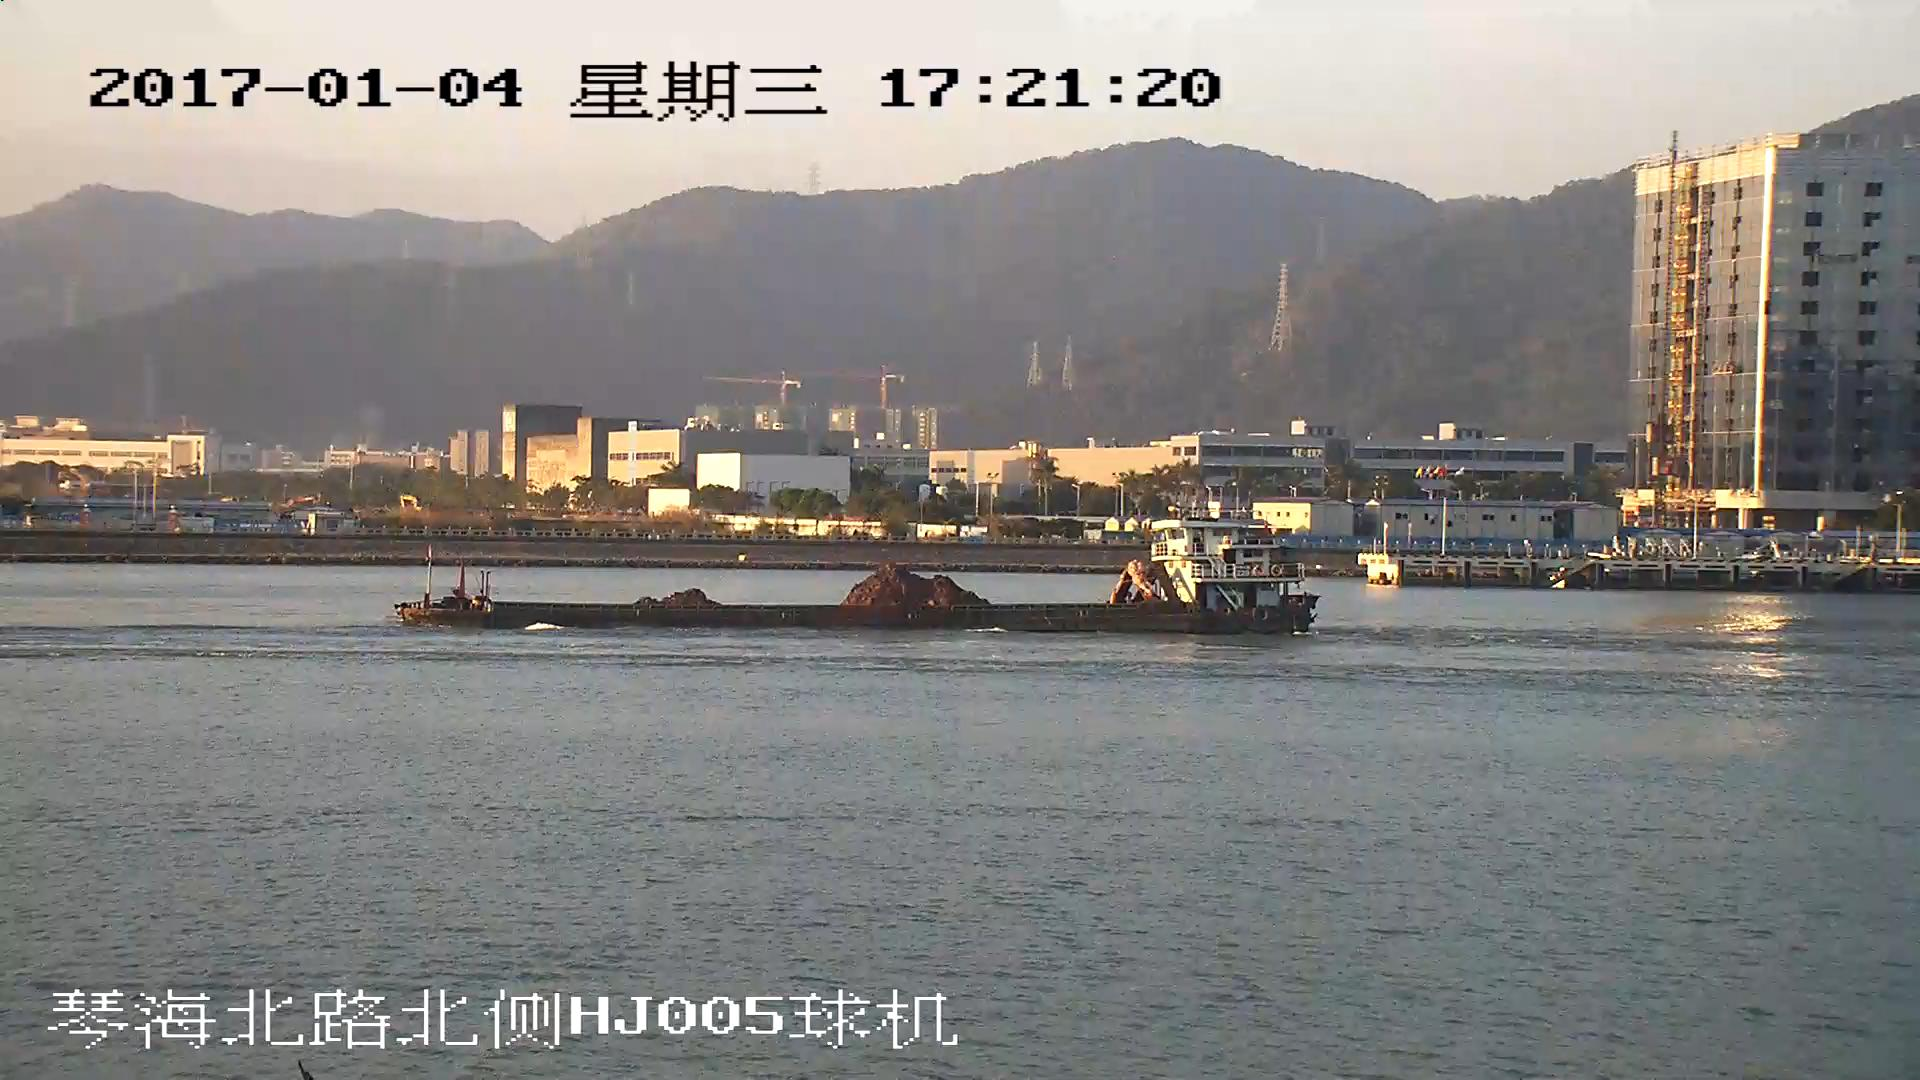ore carrier: (395, 515, 1317, 637)
